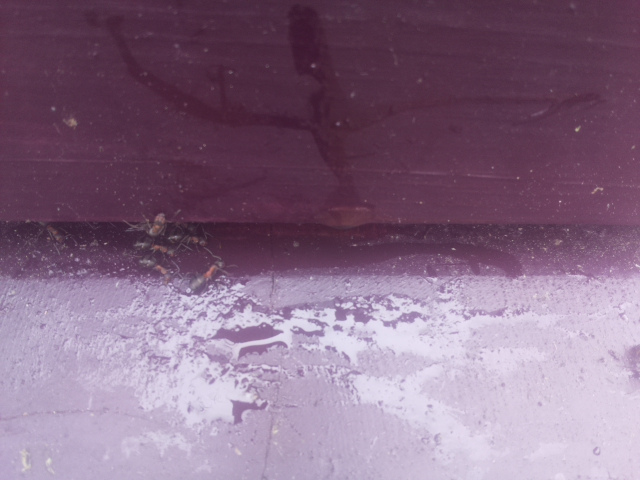ant: (186, 259, 224, 296)
